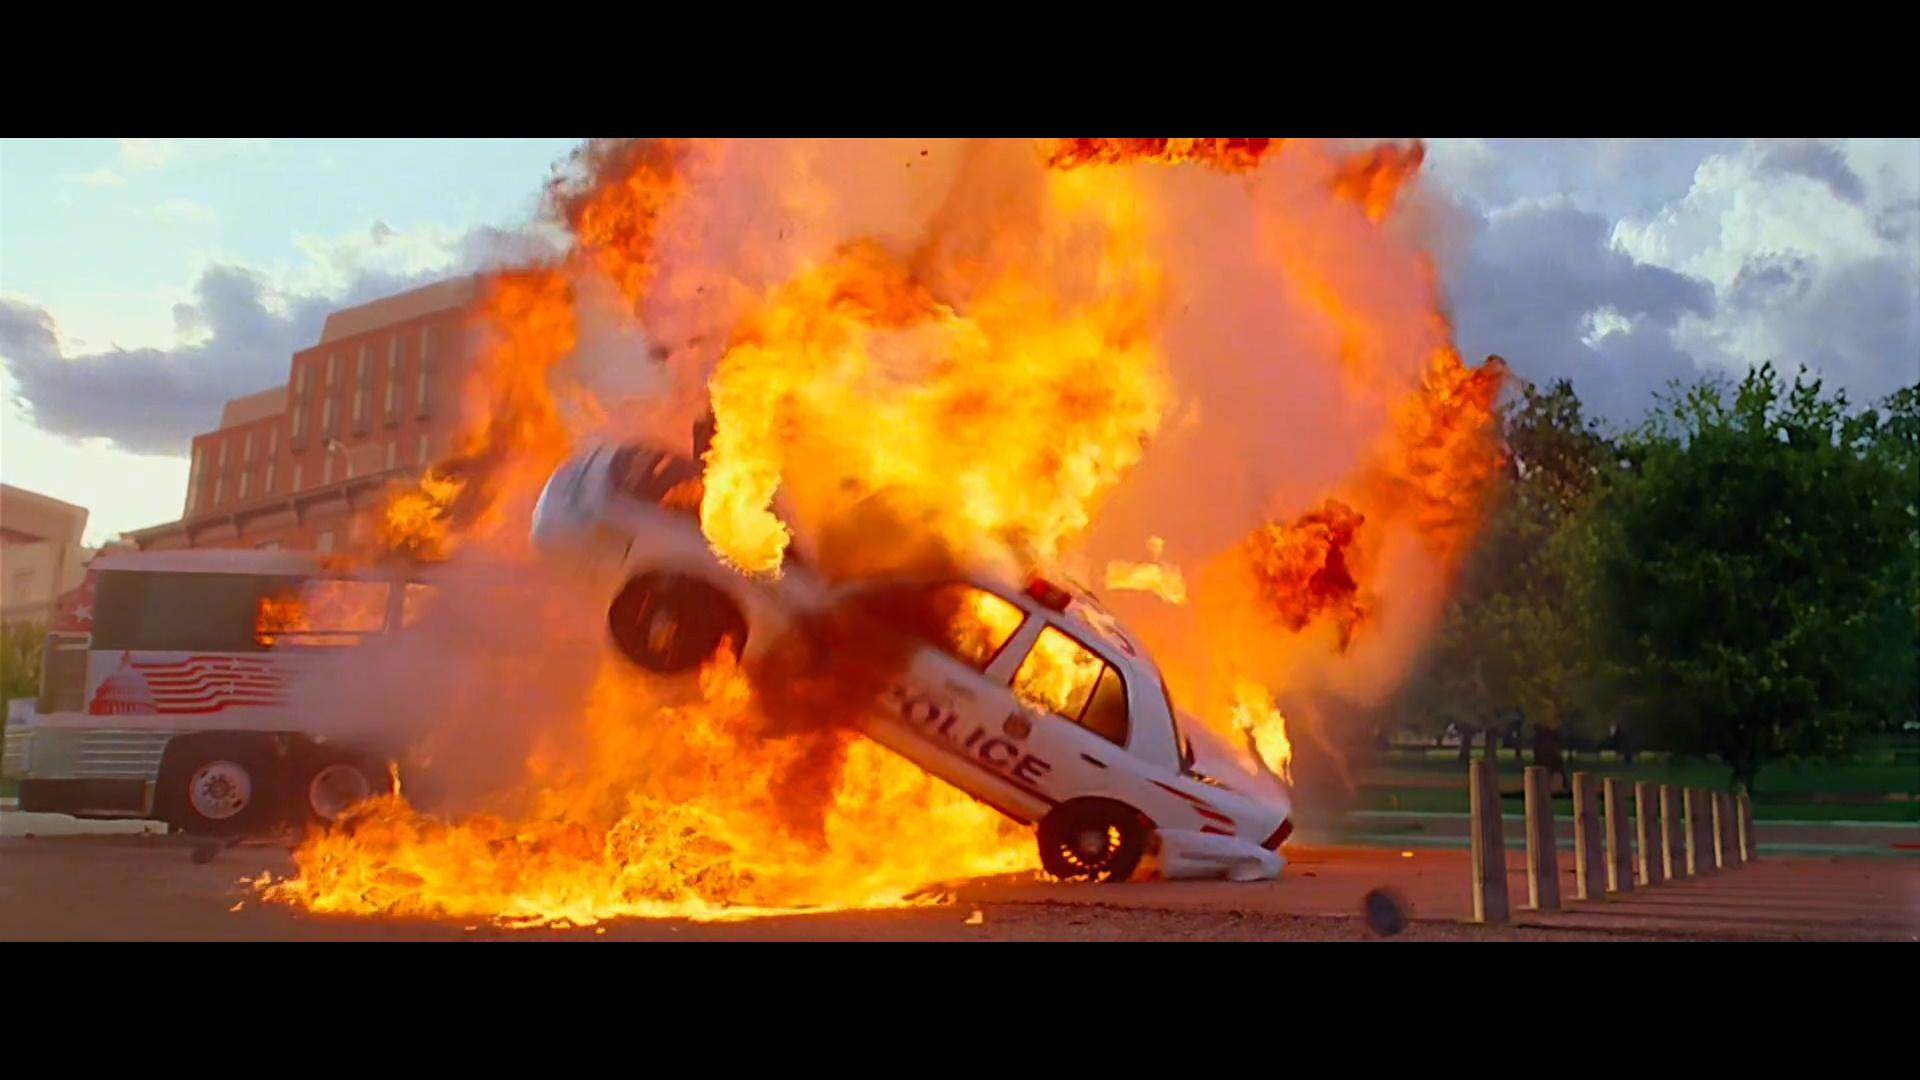fire: (220, 137, 1511, 928)
